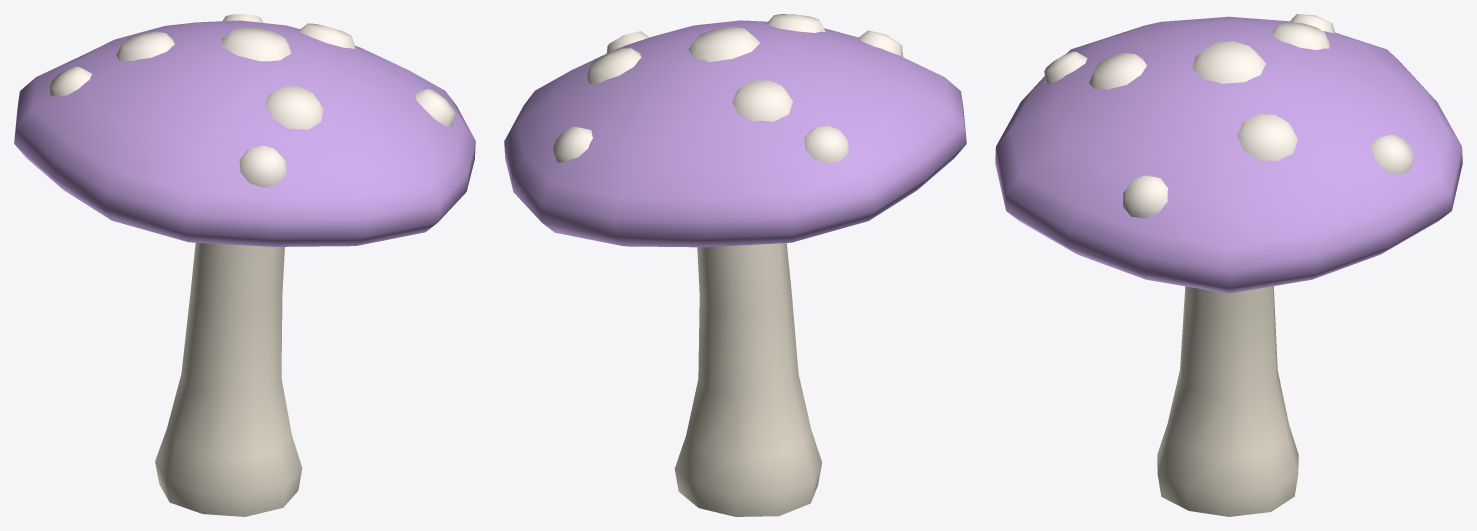
File: tree_mushroom.fbx
The picture shows the model from 3 angles, left to right: view 1: azimuth 30°, elevation 25°; view 2: azimuth 150°, elevation 25°; view 3: azimuth 270°, elevation 25°; orthographic projection.
Parts seen in each view (by area): view 1: tree_mushroom; view 2: tree_mushroom; view 3: tree_mushroom.
Part boxes in pixels (left/top/right/bottom): tree_mushroom: left=14, top=14, right=475, bottom=516; tree_mushroom: left=504, top=14, right=966, bottom=516; tree_mushroom: left=995, top=14, right=1462, bottom=516.
Size of the model in its own units: 3.33 by 3.54 by 3.34.
